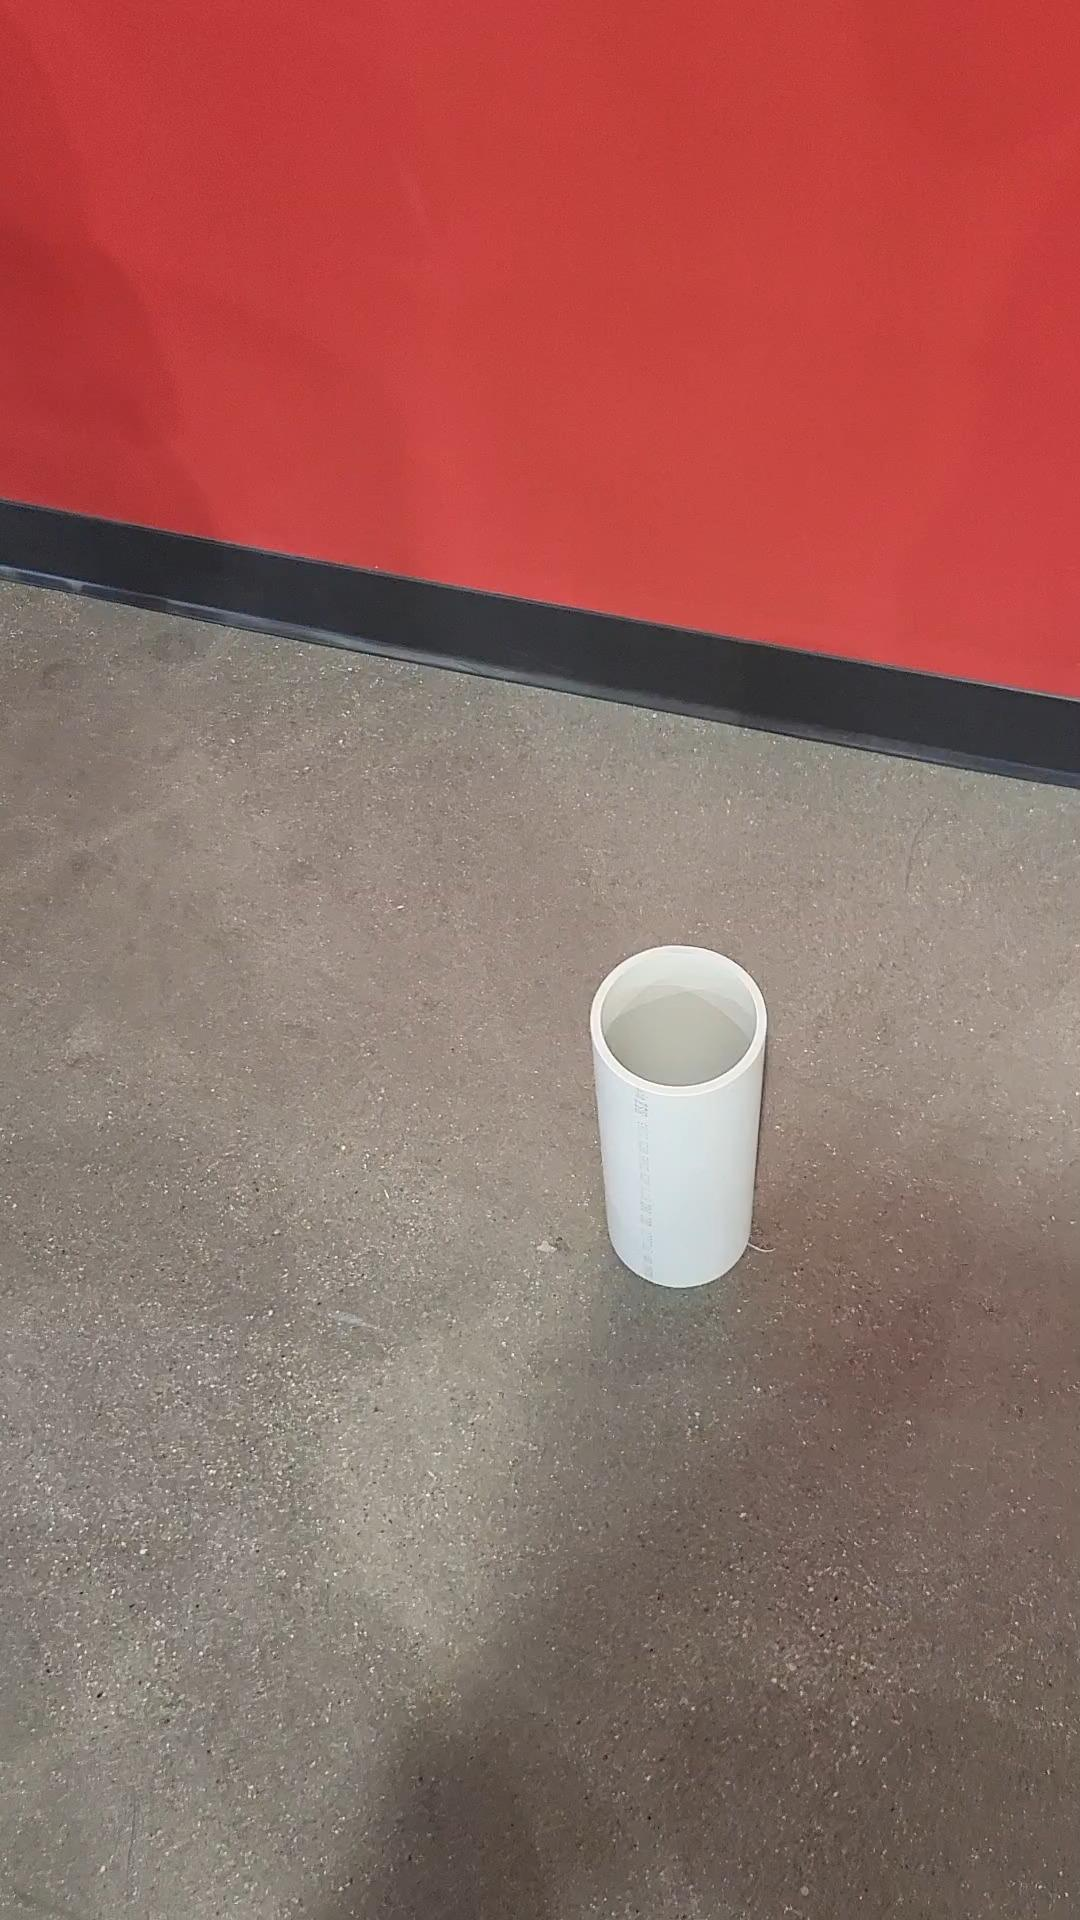coral: (587, 942, 774, 1294)
